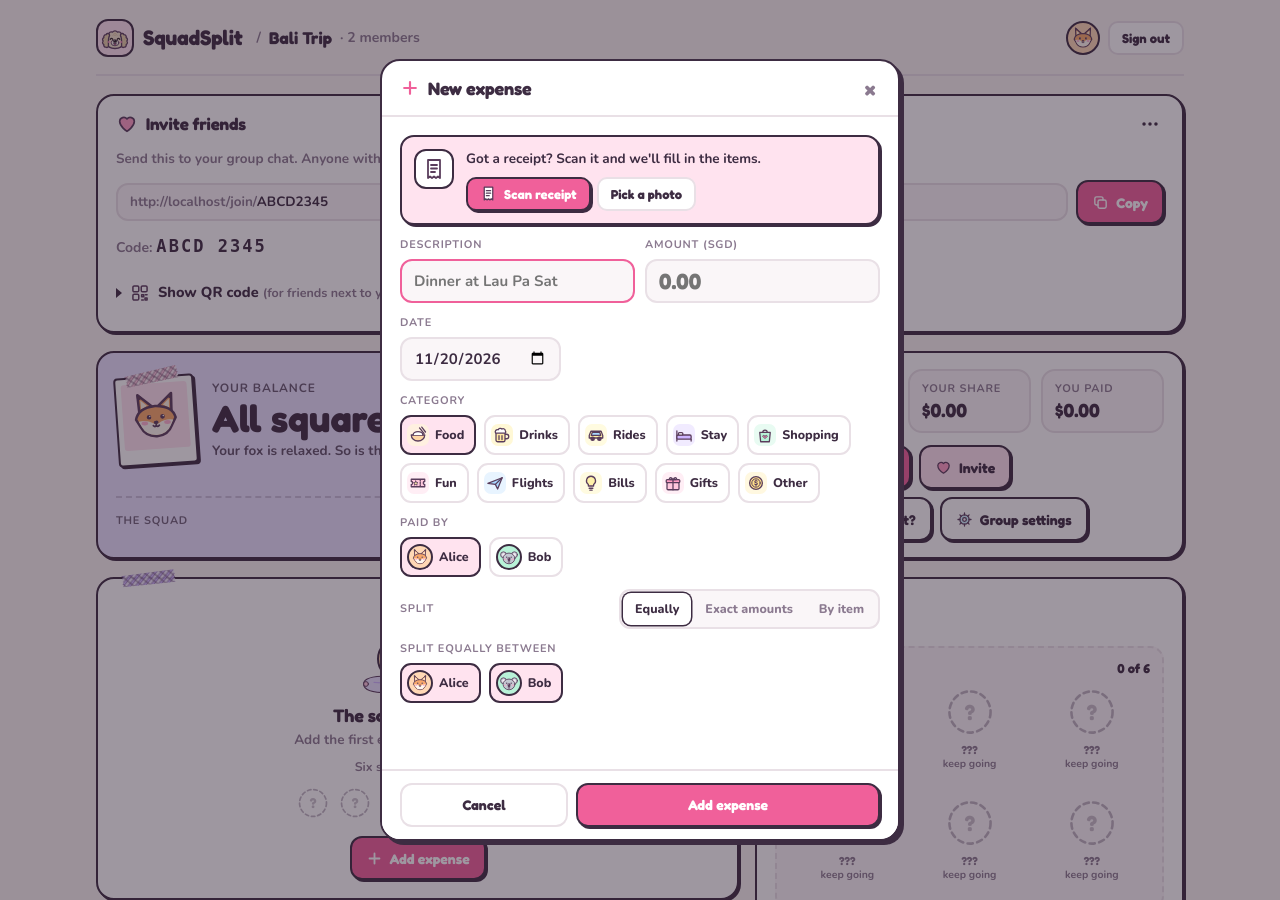
Expense form › in exact mode, shows what is left to assign and only enables submit when the shares add up
Later steps or results of the test are not shown.
In the field labelled "Description": x=518, y=281 [400, 259, 635, 303], type "Groceries"
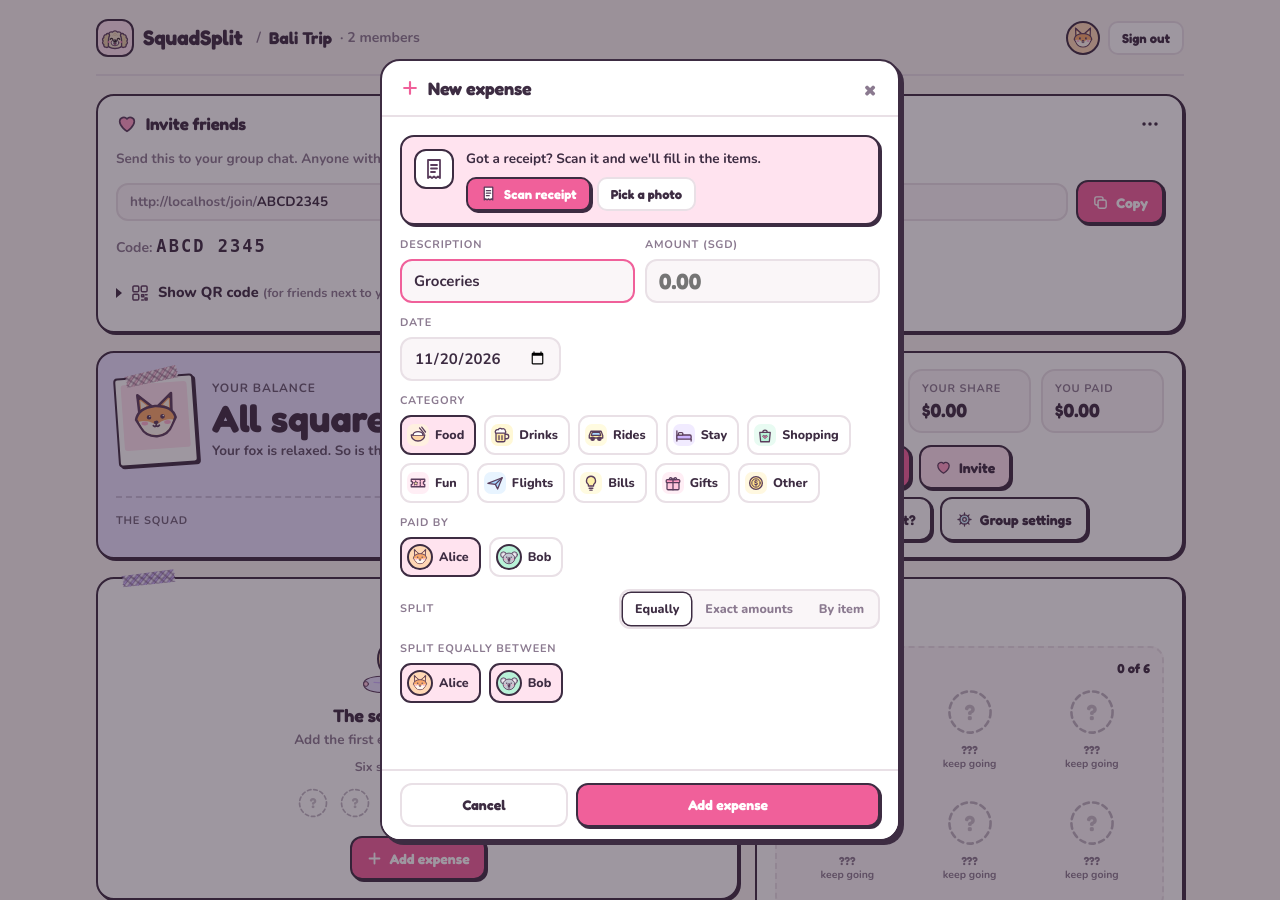
In the field labelled "Amount (SGD)": x=762, y=281 [645, 259, 880, 303], type "10.00"
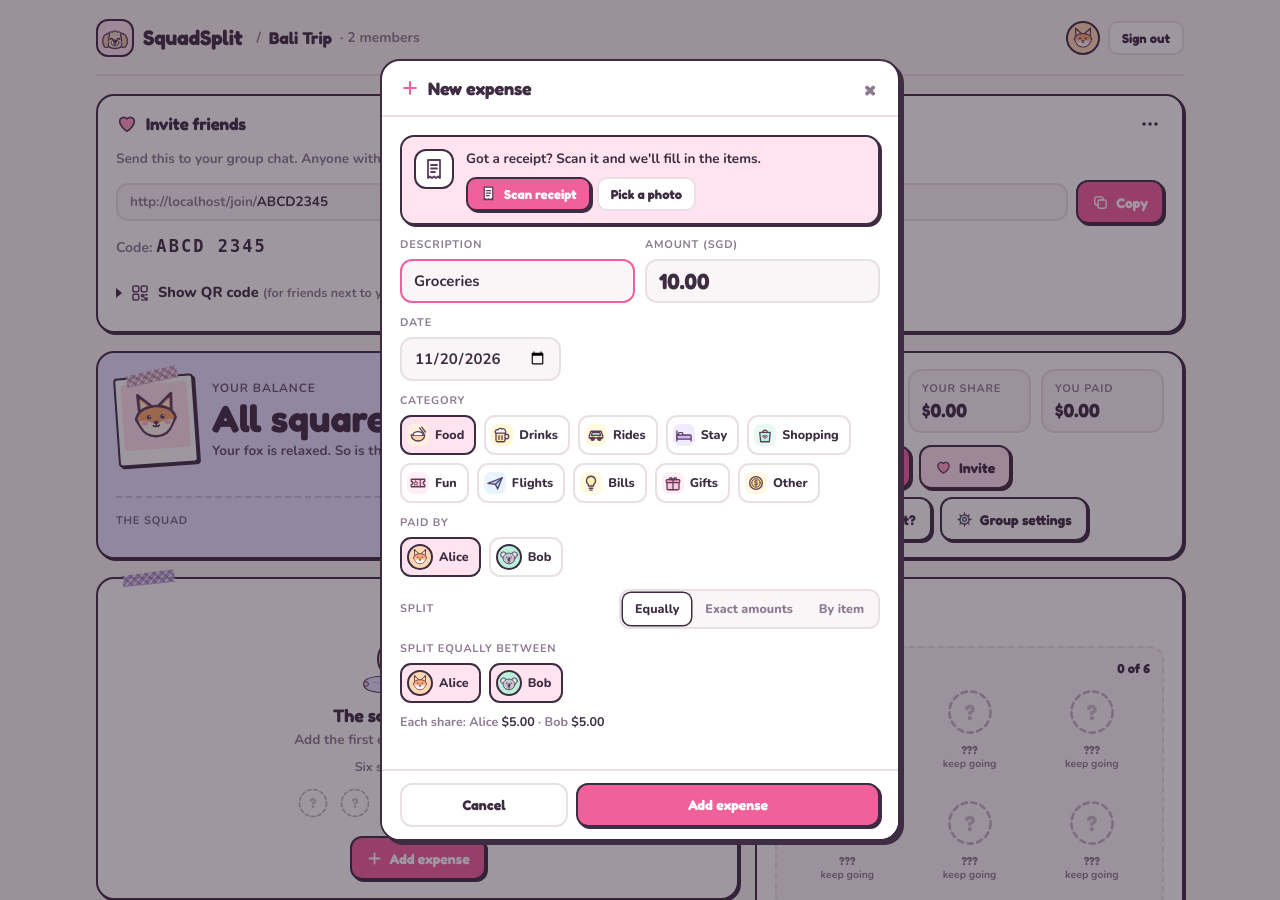
Click the button "Exact amounts": x=749, y=609 [693, 593, 805, 625]
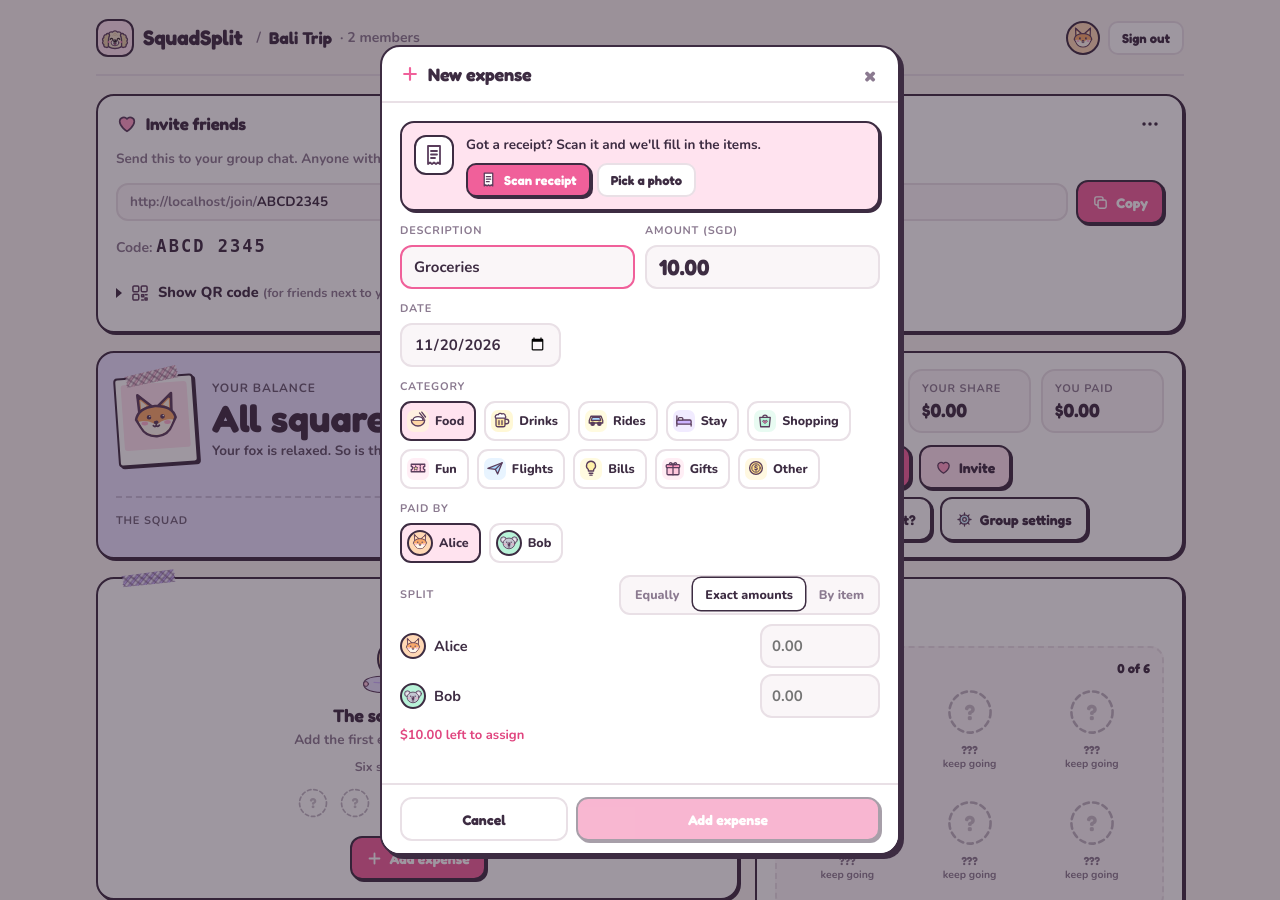
In the field named "Alice's share": x=820, y=646 [760, 624, 880, 668], type "4.00"
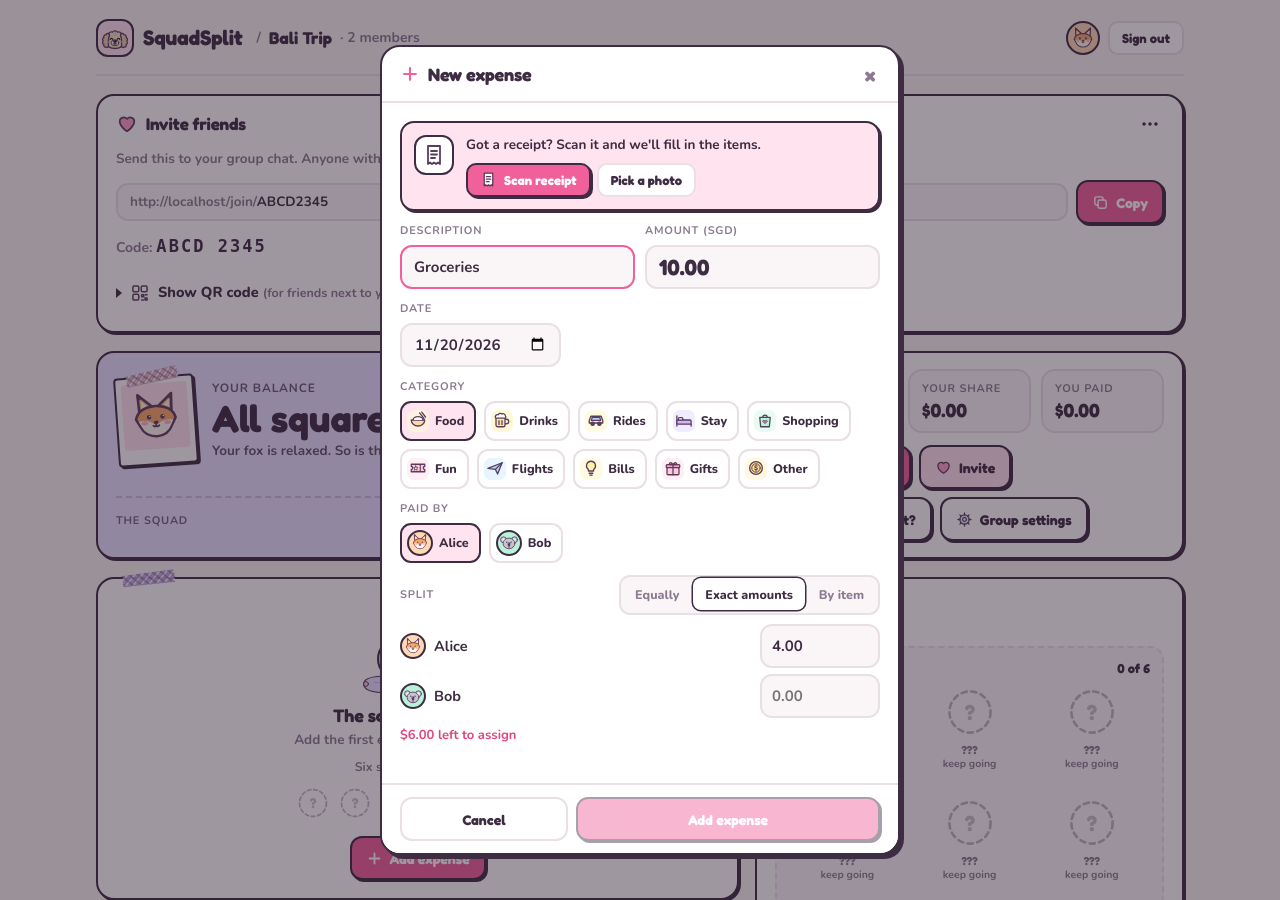
In the field named "Bob's share": x=820, y=696 [760, 674, 880, 718], type "5.00"
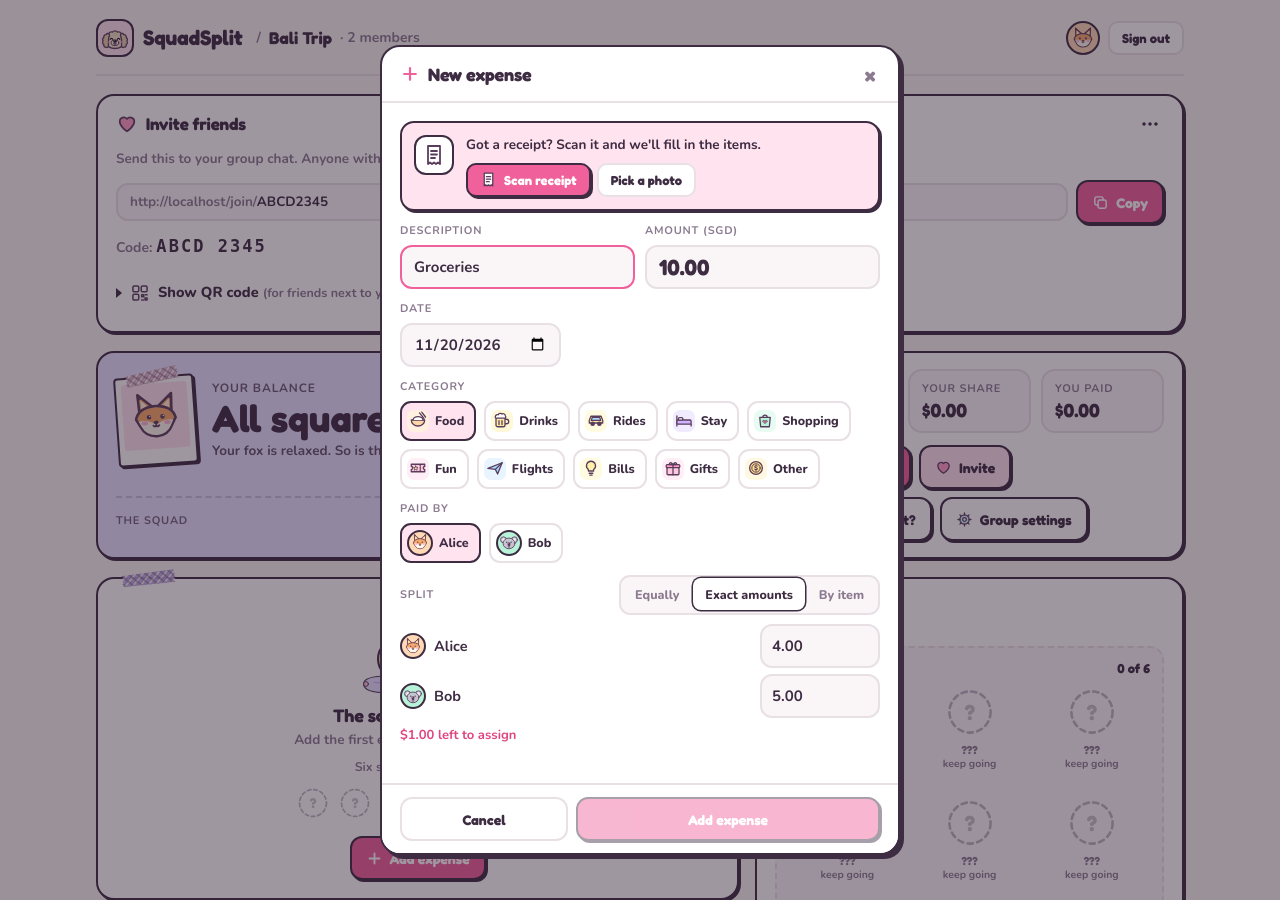
Now the button "Add expense" is disabled, box [576, 797, 880, 841]
Now the text "$1.00 left to assign" is shown, box [400, 726, 516, 744]
Replace the text in the field named "Bob's share" with "6.00": x=820, y=696 [760, 674, 880, 718]
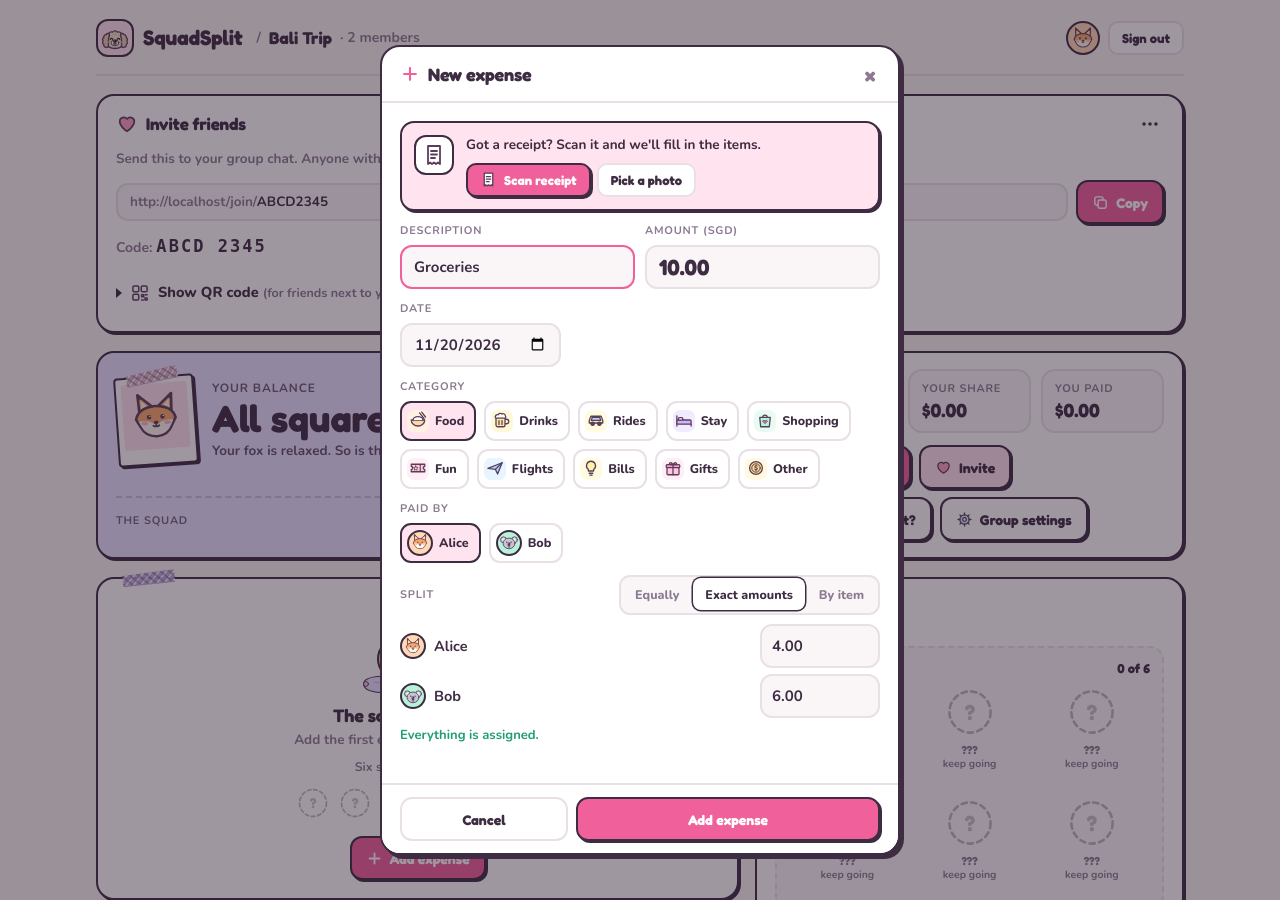
Now the button "Add expense" is enabled, box [576, 797, 880, 841]
